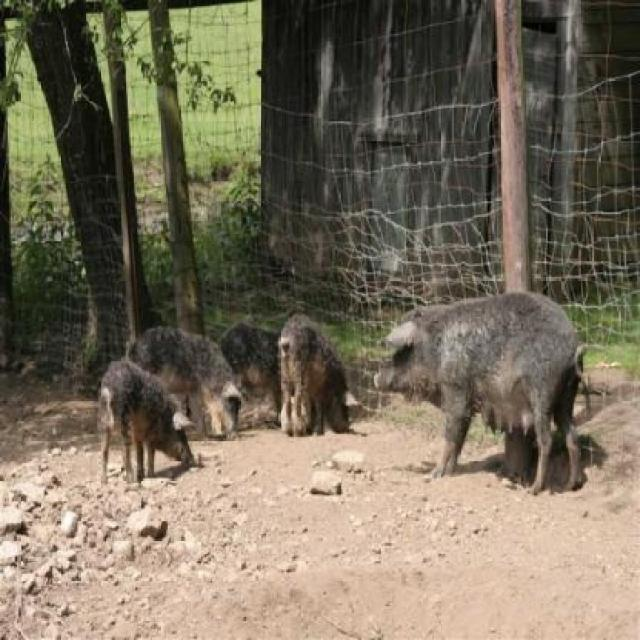WildBoar: (378, 271, 590, 495), (268, 311, 374, 452), (83, 364, 208, 476), (130, 326, 255, 437)
